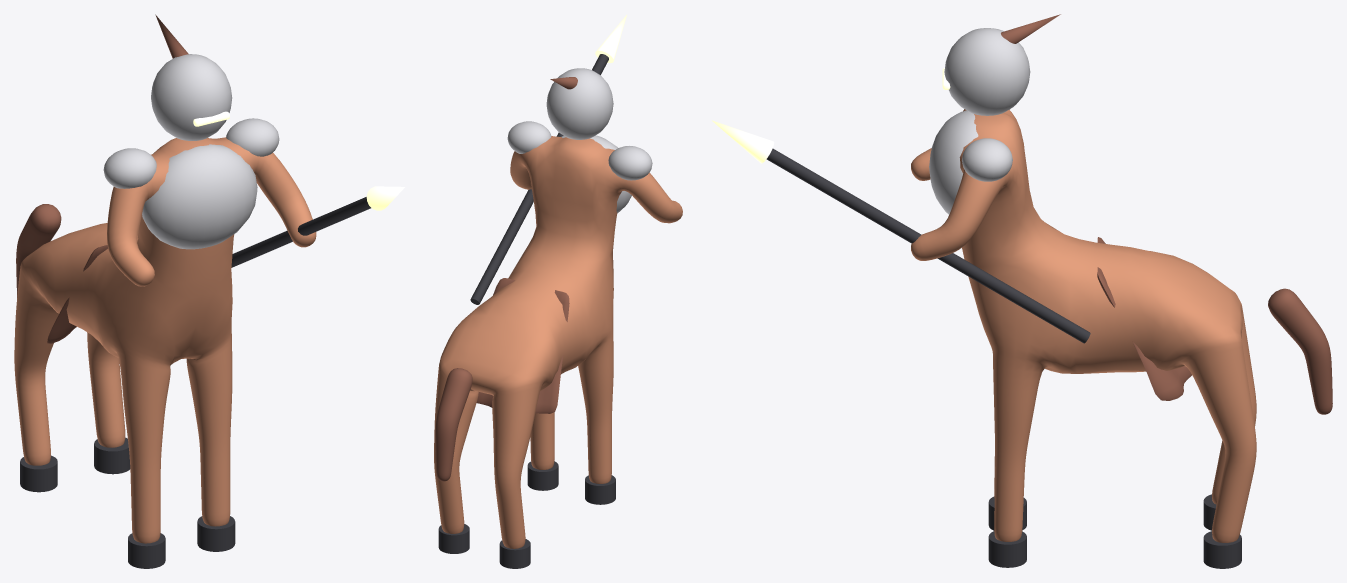
Rendered from centaur.glb.
3 views of the same model, side by side, from view 1: azimuth 30°, elevation 25°; view 2: azimuth 150°, elevation 25°; view 3: azimuth 270°, elevation 25° (orthographic). The views are drawn at different scales.
Parts seen in each view (by area): view 1: skin; view 2: skin; view 3: skin.
Boxes of the visible parts, box(x1,y1,x2,y2) form: skin: box(14, 14, 404, 568); skin: box(434, 15, 682, 568); skin: box(712, 14, 1332, 568).
Size of the model in its own units: 0.3933 by 1 by 1.07.
